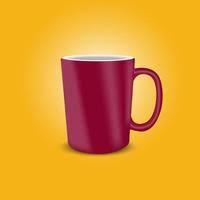cup: (62, 55, 164, 156)
